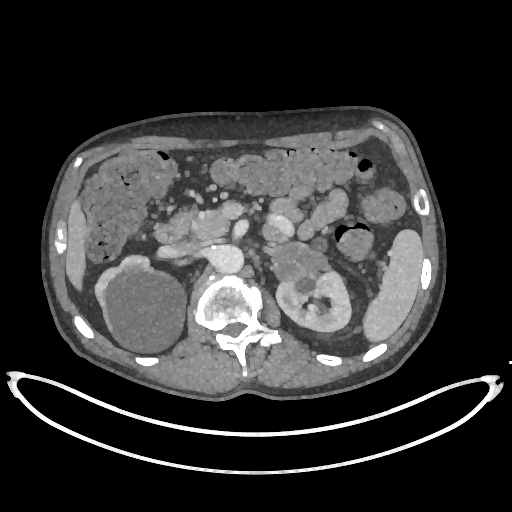Lesion: (270, 242, 333, 283)
